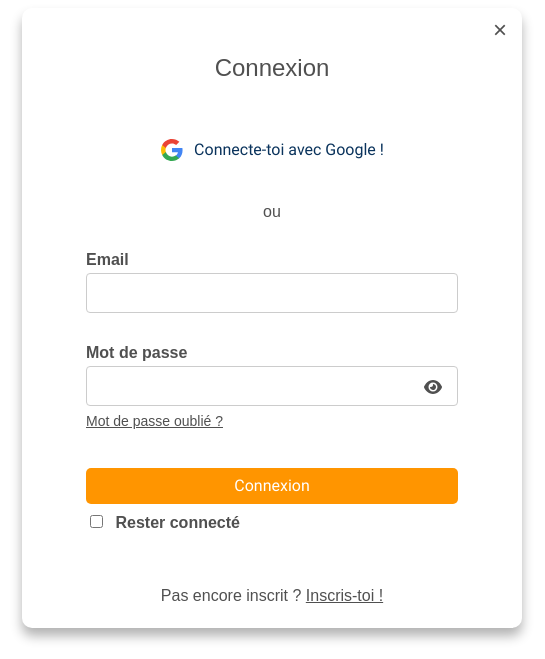
Test: LoginModal Component › change vers le formulaire d'inscription
This screenshot has width=545, height=659.
Click the text "Inscris-toi !".
click(344, 596)  # box [306, 587, 383, 604]
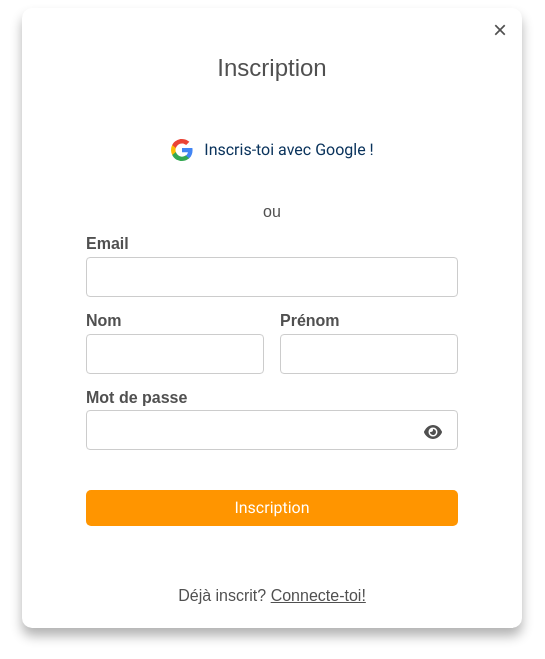
Now the button with test id "inscription-button" reads "Inscris-toi avec Google !", box [86, 128, 458, 172]
